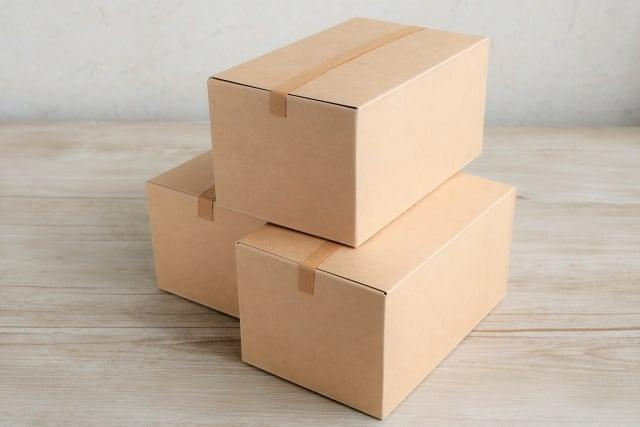box: (235, 158, 516, 423), (202, 11, 494, 254)
